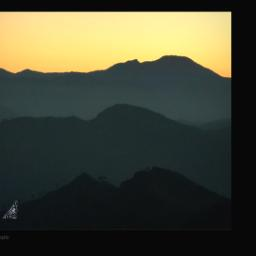Crow: (2, 202, 18, 219)
